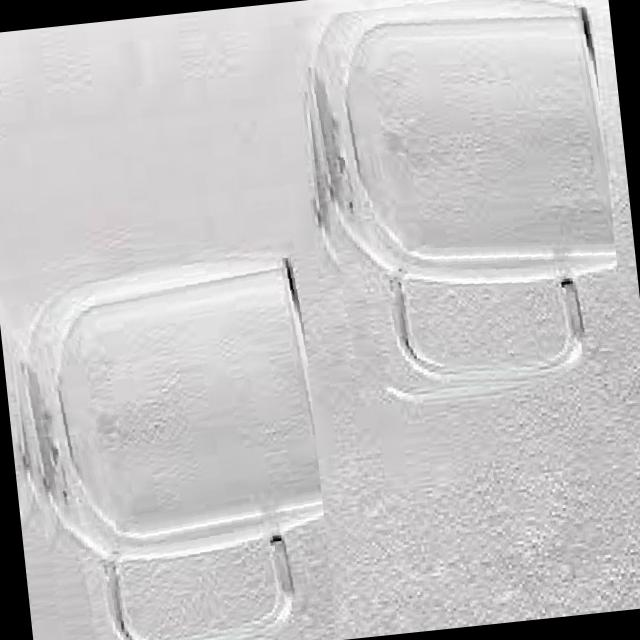Glass: (290, 0, 628, 416), (0, 225, 335, 640)
